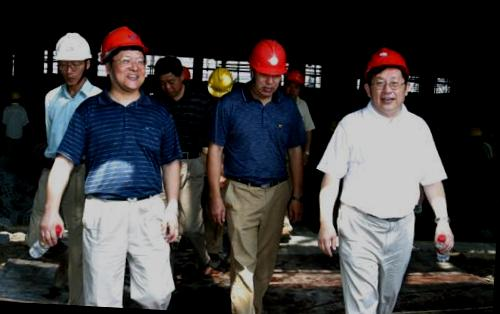no_helmet: (151, 54, 187, 102)
